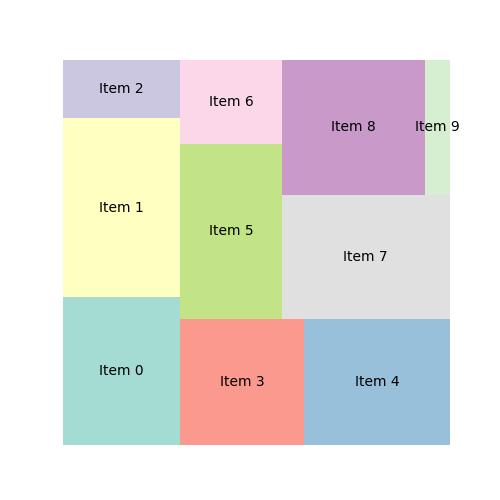rectangle: (281, 193, 449, 318), (62, 119, 180, 296), (281, 59, 426, 192), (303, 318, 450, 444), (62, 294, 181, 446), (180, 143, 281, 320), (180, 319, 304, 444), (180, 59, 281, 144), (63, 59, 179, 119), (427, 59, 450, 195)
